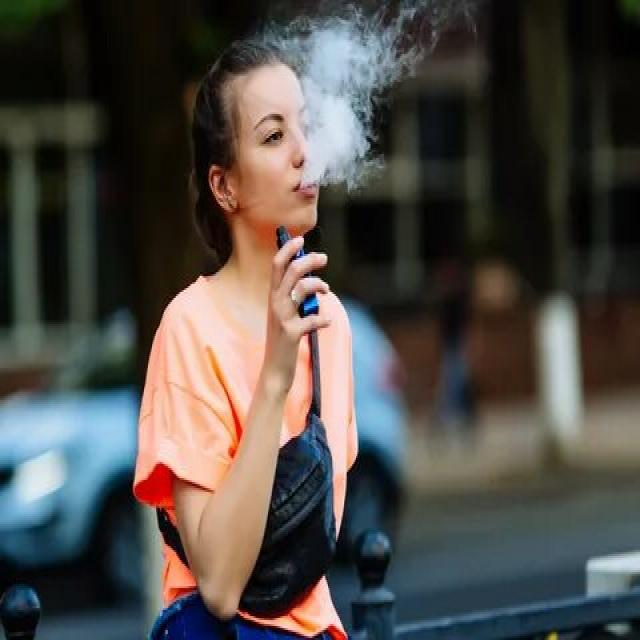cigarette: (273, 218, 320, 324)
